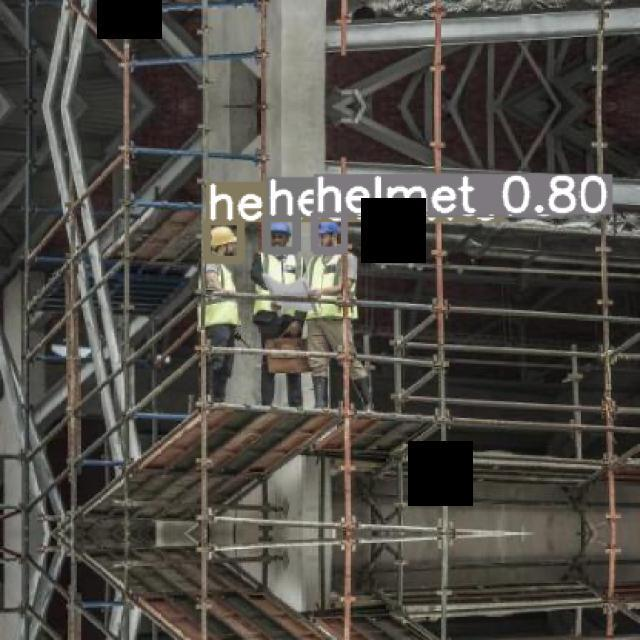blue helmet: (273, 224, 295, 242), (319, 222, 342, 237)
yellow helmet: (210, 225, 237, 248)
